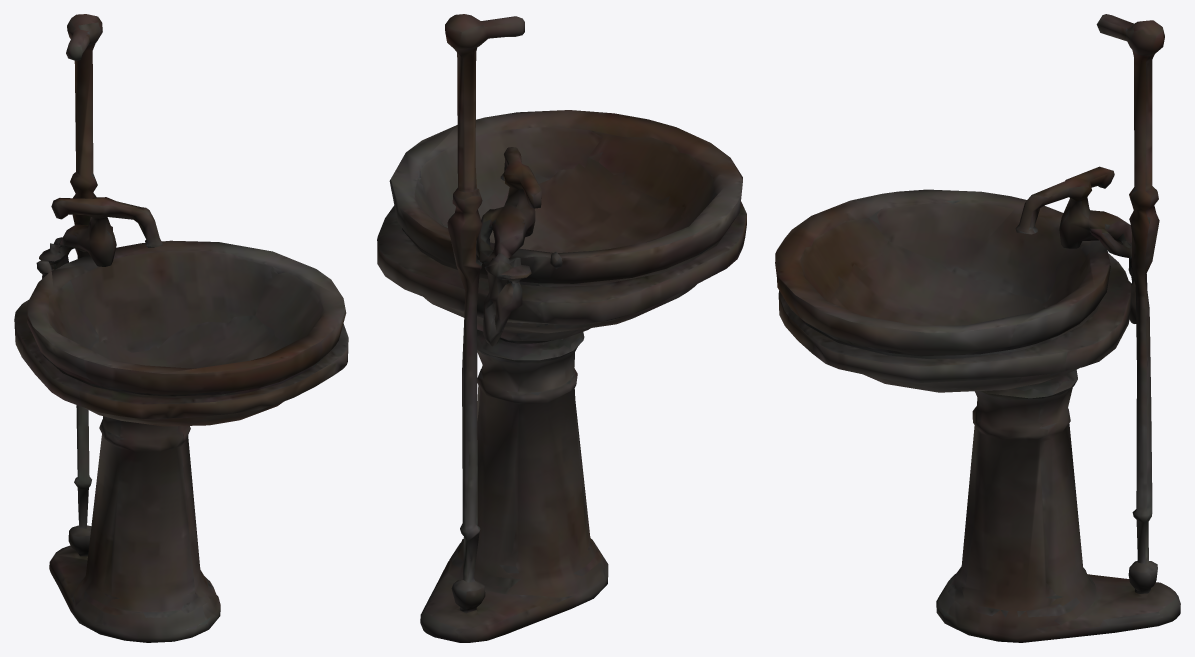
Rendered from worn-iron-washbasin-v001.glb.
The picture shows the model from 3 angles, left to right: view 1: azimuth 30°, elevation 25°; view 2: azimuth 150°, elevation 25°; view 3: azimuth 270°, elevation 25°; orthographic projection. The views are drawn at different scales.
Parts seen in each view (by area): view 1: worn-iron-washbasin; view 2: worn-iron-washbasin; view 3: worn-iron-washbasin.
Part boxes in pixels (x1=…): worn-iron-washbasin: x1=14, y1=14, x2=348, y2=642; worn-iron-washbasin: x1=377, y1=14, x2=746, y2=642; worn-iron-washbasin: x1=775, y1=14, x2=1180, y2=642.
Bounding box in the file's own units: 0.4539 × 0.8595 × 0.536.
1 material, 1 textured.
